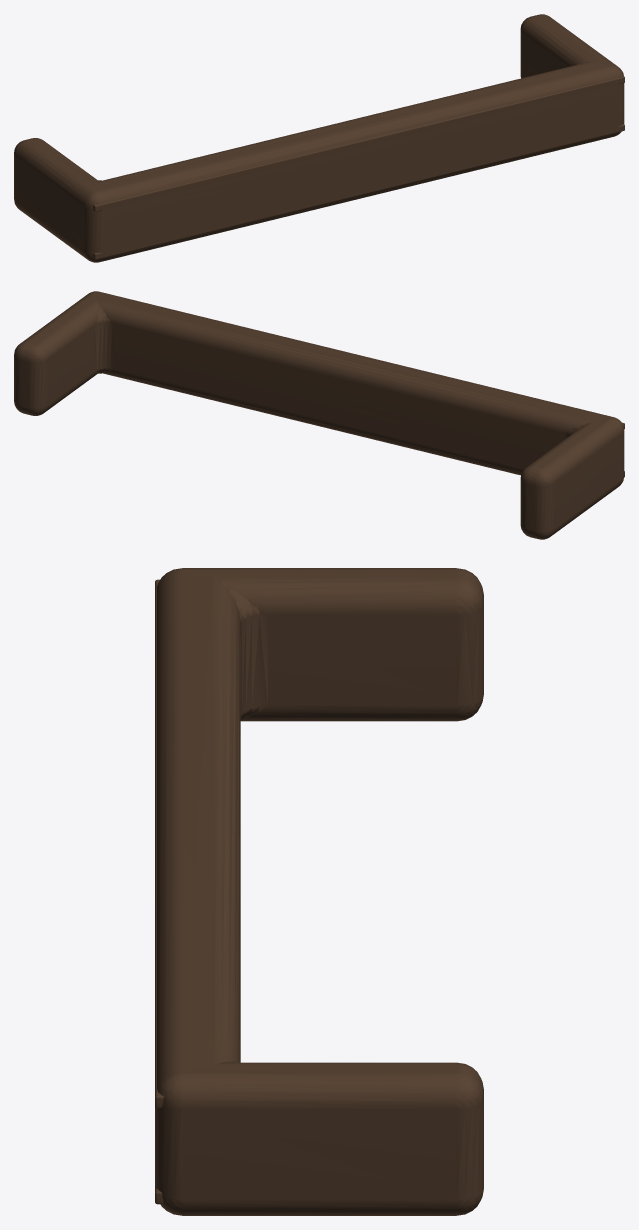
Rendered from eurofit-h-344-128orb-v3.glb.
3 views of the same model, one above another, from view 1: azimuth 30°, elevation 25°; view 2: azimuth 150°, elevation 25°; view 3: azimuth 270°, elevation 25° (orthographic). The views are drawn at different scales.
Visible parts, largest first — view 1: Continuous U grip and legs, Parallel grip moulding.001, Parallel grip moulding; view 2: Continuous U grip and legs; view 3: Continuous U grip and legs, Parallel grip moulding.001.
Part boxes in pixels (left/top/right/bottom): Continuous U grip and legs: left=14, top=14, right=624, bottom=262; Parallel grip moulding.001: left=93, top=75, right=624, bottom=211; Parallel grip moulding: left=93, top=124, right=624, bottom=259; Continuous U grip and legs: left=14, top=291, right=624, bottom=539; Continuous U grip and legs: left=155, top=568, right=483, bottom=1215; Parallel grip moulding.001: left=155, top=579, right=163, bottom=1108.
Size of the model in its own units: 0.136 by 0.017 by 0.036.
